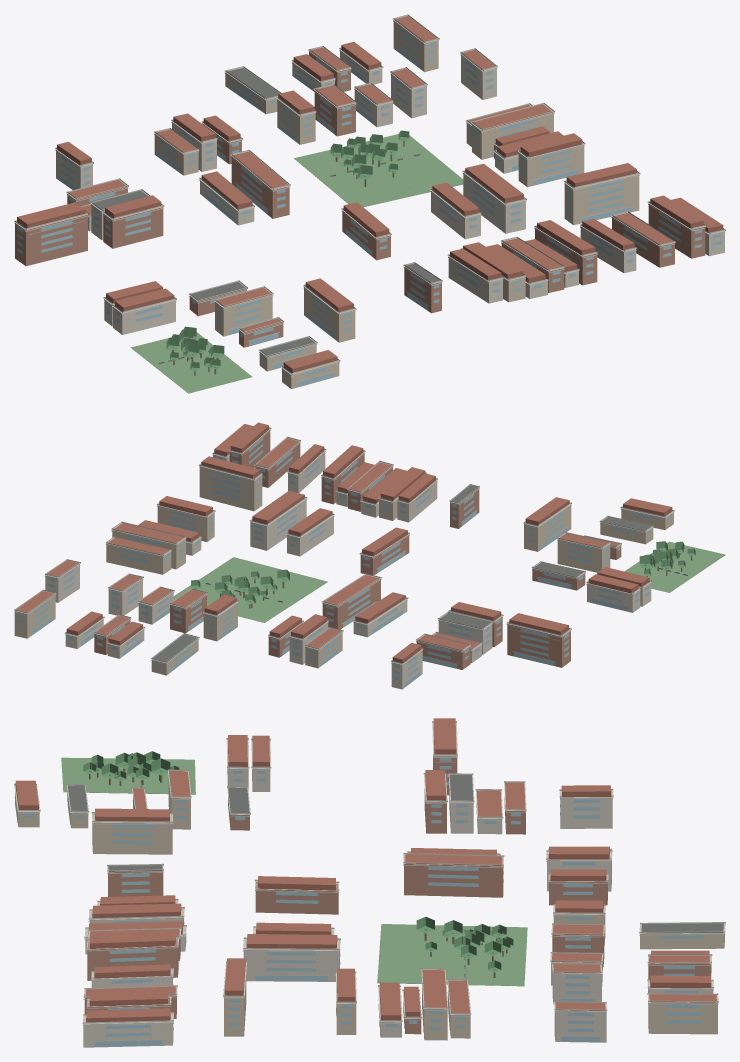
3 renders of one model, top to bottom at view 1: azimuth 30°, elevation 25°; view 2: azimuth 150°, elevation 25°; view 3: azimuth 270°, elevation 25°, orthographic. The views are drawn at different scales.
Parts seen in each view (by area): view 1: neighborhood-park-block-221-mesh-5, neighborhood-park-block-138-mesh-0, building-0348-mesh-20, building-0568-mesh-205, neighborhood-park-block-221-mesh-8, building-0391-mesh-50, building-0569-mesh-210, building-0513-mesh-150, neighborhood-park-block-138-mesh-3, building-0440-mesh-95, building-0566-mesh-195, building-0389-mesh-40 (+45 smaller); view 2: neighborhood-park-block-221-mesh-5, neighborhood-park-block-138-mesh-0, building-0568-mesh-205, building-0348-mesh-20, neighborhood-park-block-221-mesh-8, building-0389-mesh-40, building-0513-mesh-150, building-0573-mesh-230, building-0440-mesh-95, neighborhood-park-block-138-mesh-3, building-0436-mesh-75, building-0569-mesh-210 (+55 smaller); view 3: neighborhood-park-block-221-mesh-5, building-0440-mesh-95, neighborhood-park-block-138-mesh-0, building-0513-mesh-150, building-0436-mesh-75, neighborhood-park-block-221-mesh-8, building-0577-mesh-250, building-0438-mesh-85, neighborhood-park-block-138-mesh-3, building-0511-mesh-140, building-0567-mesh-200, building-0395-mesh-70 (+53 smaller).
Part boxes in pixels (x1,y1,x2,y2): neighborhood-park-block-221-mesh-5: [294, 134, 463, 207]; neighborhood-park-block-138-mesh-0: [130, 332, 252, 393]; building-0348-mesh-20: [15, 215, 87, 266]; building-0568-mesh-205: [564, 174, 639, 225]; neighborhood-park-block-221-mesh-8: [330, 130, 409, 179]; building-0391-mesh-50: [103, 207, 163, 248]; building-0569-mesh-210: [518, 144, 584, 187]; building-0513-mesh-150: [463, 173, 525, 233]; neighborhood-park-block-138-mesh-3: [166, 326, 224, 371]; building-0440-mesh-95: [231, 156, 289, 218]; building-0566-mesh-195: [648, 203, 705, 258]; building-0389-mesh-40: [215, 295, 272, 336]; neighborhood-park-block-221-mesh-5: [173, 557, 327, 622]; neighborhood-park-block-138-mesh-0: [624, 541, 725, 592]; building-0568-mesh-205: [199, 466, 262, 511]; building-0348-mesh-20: [507, 624, 570, 667]; neighborhood-park-block-221-mesh-8: [191, 569, 289, 604]; building-0389-mesh-40: [557, 539, 610, 572]; building-0513-mesh-150: [250, 499, 306, 550]; building-0573-mesh-230: [106, 543, 171, 574]; building-0440-mesh-95: [322, 579, 380, 629]; neighborhood-park-block-138-mesh-3: [639, 541, 695, 575]; building-0436-mesh-75: [524, 504, 571, 551]; building-0569-mesh-210: [157, 506, 214, 541]; neighborhood-park-block-221-mesh-5: [377, 924, 527, 986]; building-0440-mesh-95: [404, 855, 503, 897]; neighborhood-park-block-138-mesh-0: [61, 757, 195, 794]; building-0513-mesh-150: [243, 939, 339, 981]; building-0436-mesh-75: [92, 814, 172, 854]; neighborhood-park-block-221-mesh-8: [416, 916, 513, 972]; building-0577-mesh-250: [648, 995, 717, 1034]; building-0438-mesh-85: [255, 881, 338, 914]; neighborhood-park-block-138-mesh-3: [83, 751, 179, 781]; building-0511-mesh-140: [87, 939, 178, 980]; building-0567-mesh-200: [83, 1013, 173, 1047]; building-0395-mesh-70: [560, 790, 612, 828].
Bounding box in the file's own units: 249 × 17.98 × 258.
